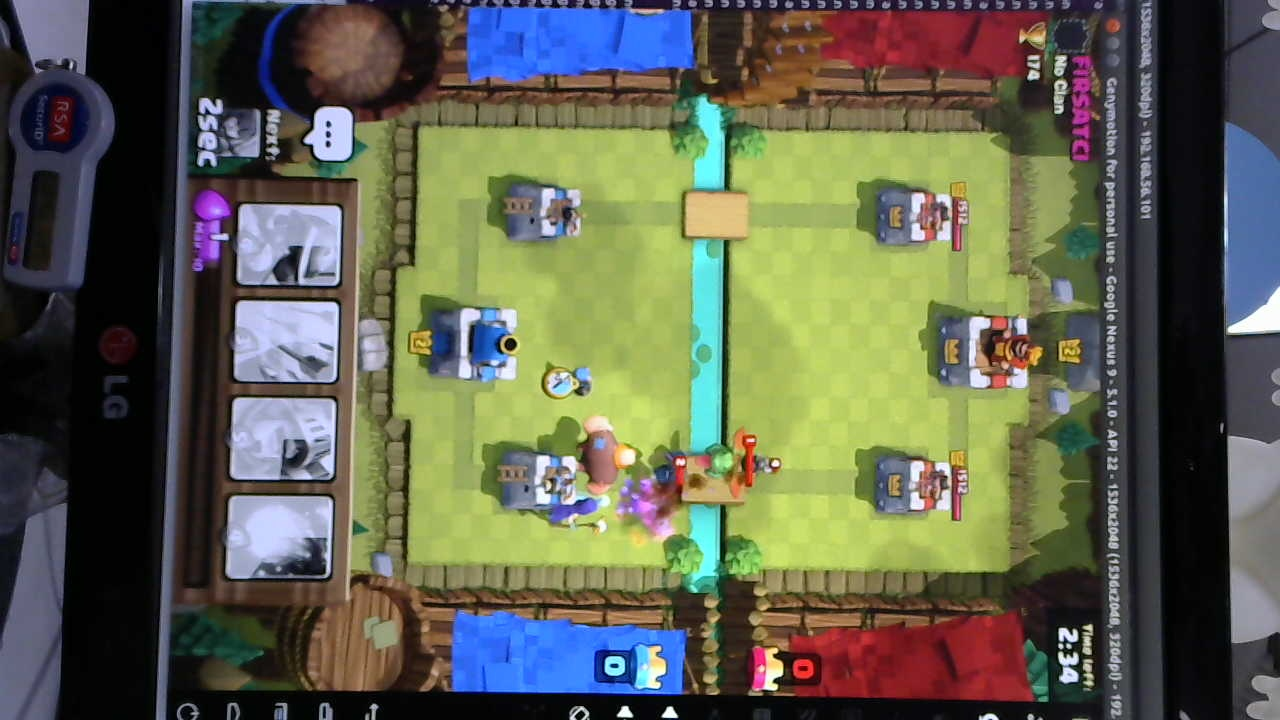arena: (501, 176, 583, 244), (508, 449, 583, 513)
bomb: (562, 358, 603, 404), (739, 450, 781, 486)
dragon: (696, 431, 741, 500)
earena: (872, 453, 956, 518), (872, 185, 956, 249)
eking: (933, 308, 1042, 393)
giant: (576, 417, 635, 490)
king: (426, 306, 521, 387)
minipekka: (644, 446, 686, 491)
witch: (545, 498, 617, 529)
